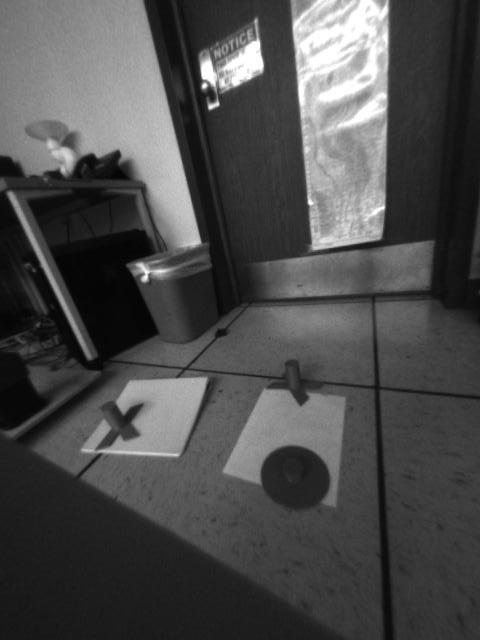X: (265, 357, 323, 403), (97, 400, 144, 448)
